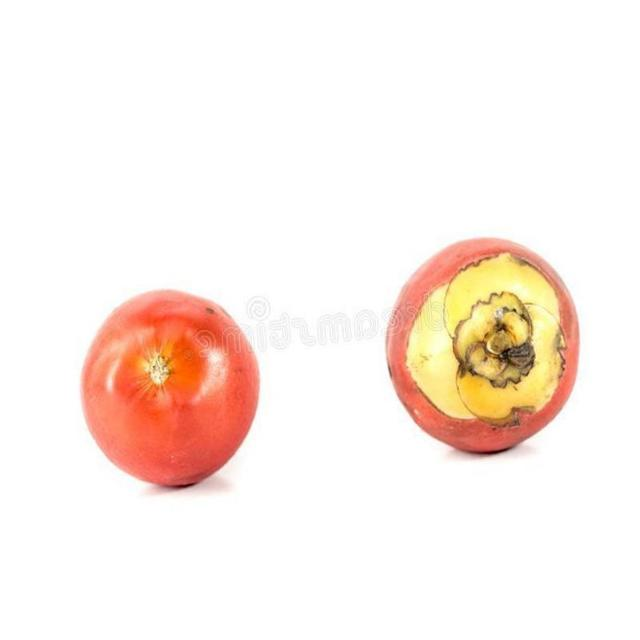good: (385, 238, 582, 456), (79, 290, 262, 490)
